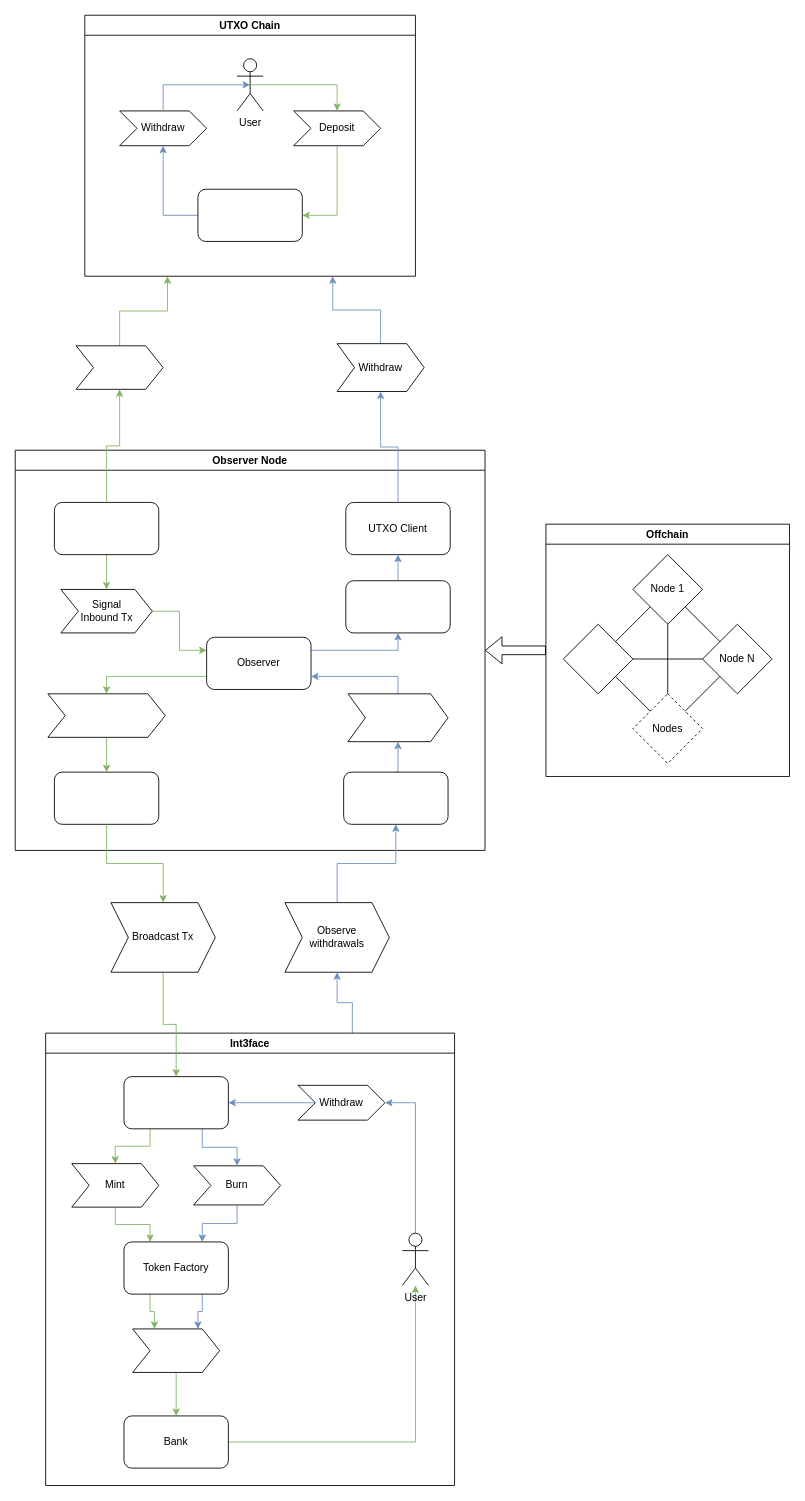
Some shapes in this 805 by 1501 pixel diagram are drawn without their labels. The shapes that lost their labels are listed below. From the top down, each one's centre as x and y in pixels, then its label:
At [249,214]: "Vault Wallet".
At [119,367]: "Observe deposits".
At [106,528]: "UTXO observer".
At [397,606]: "TSS".
At [597,658]: "Node 2".
At [106,715]: "Send confirmed transactions".
At [397,717]: "Signal Outbound Tx".
At [106,797]: "Int3face client".
At [395,797]: "Int3face observer".
At [175,1102]: "Bridge".
At [176,1350]: "Update user balance".
